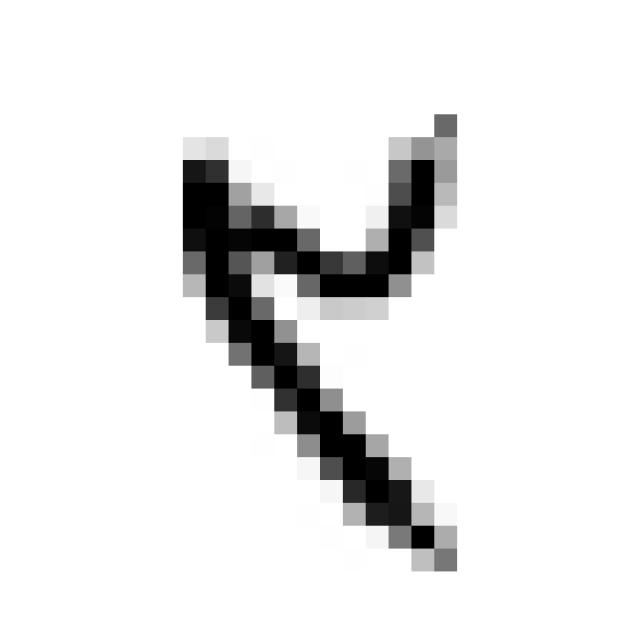3 -three-: (155, 96, 483, 586)
